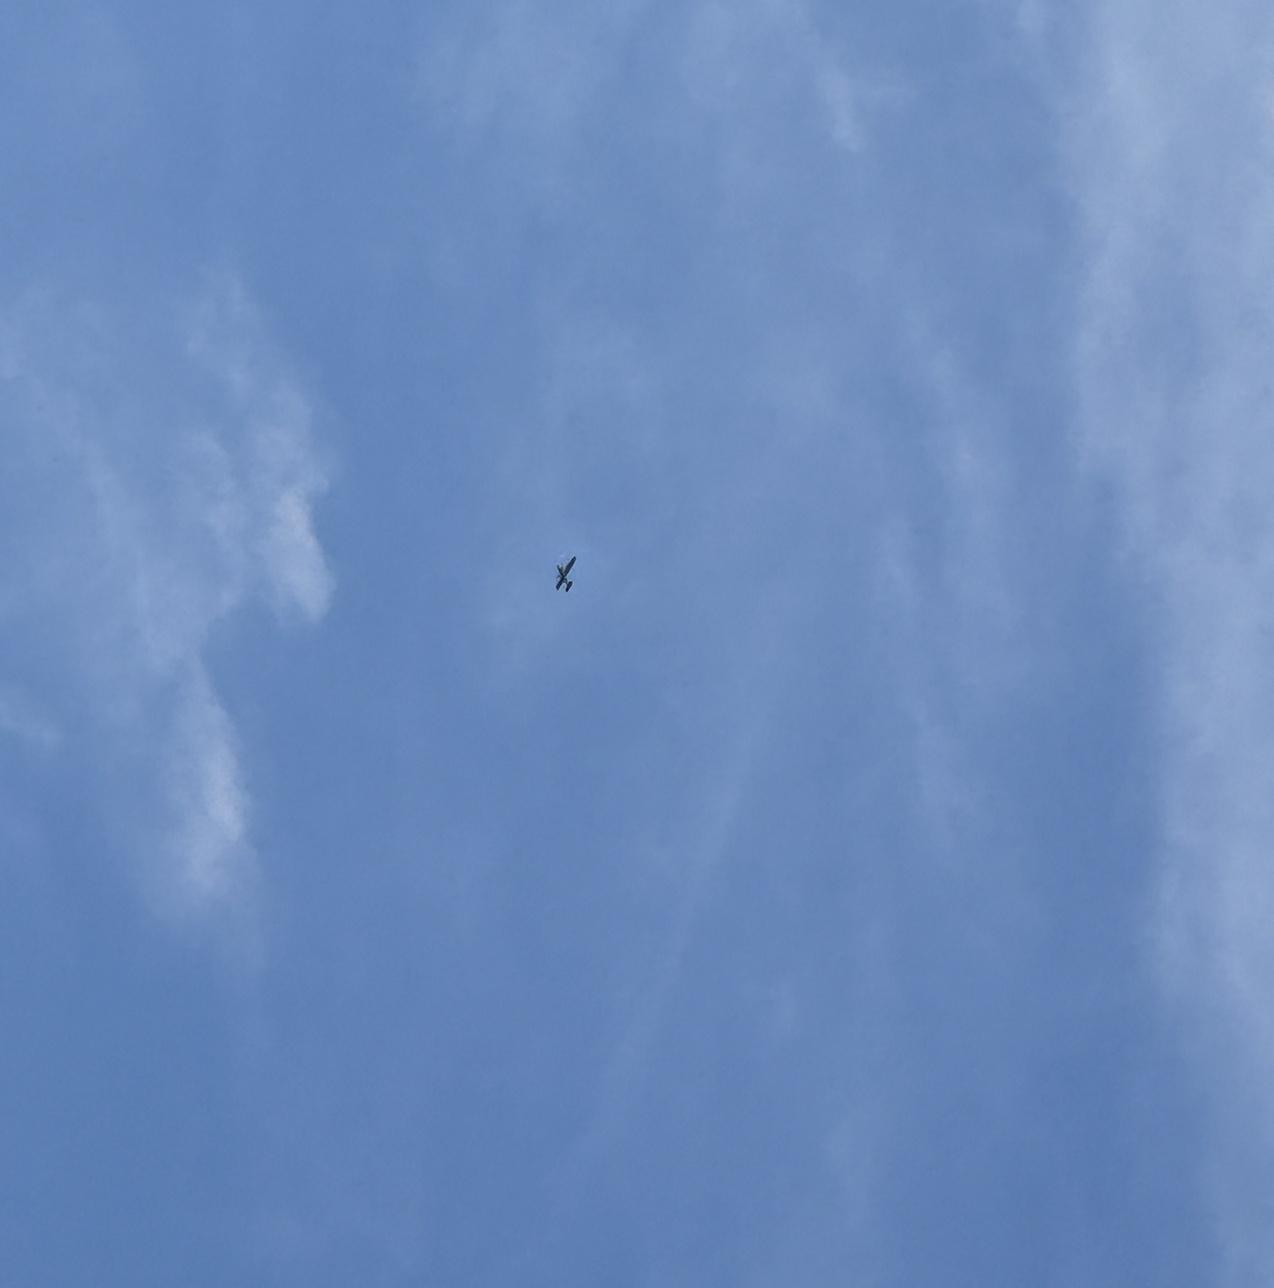Plane: (534, 534, 598, 614)
